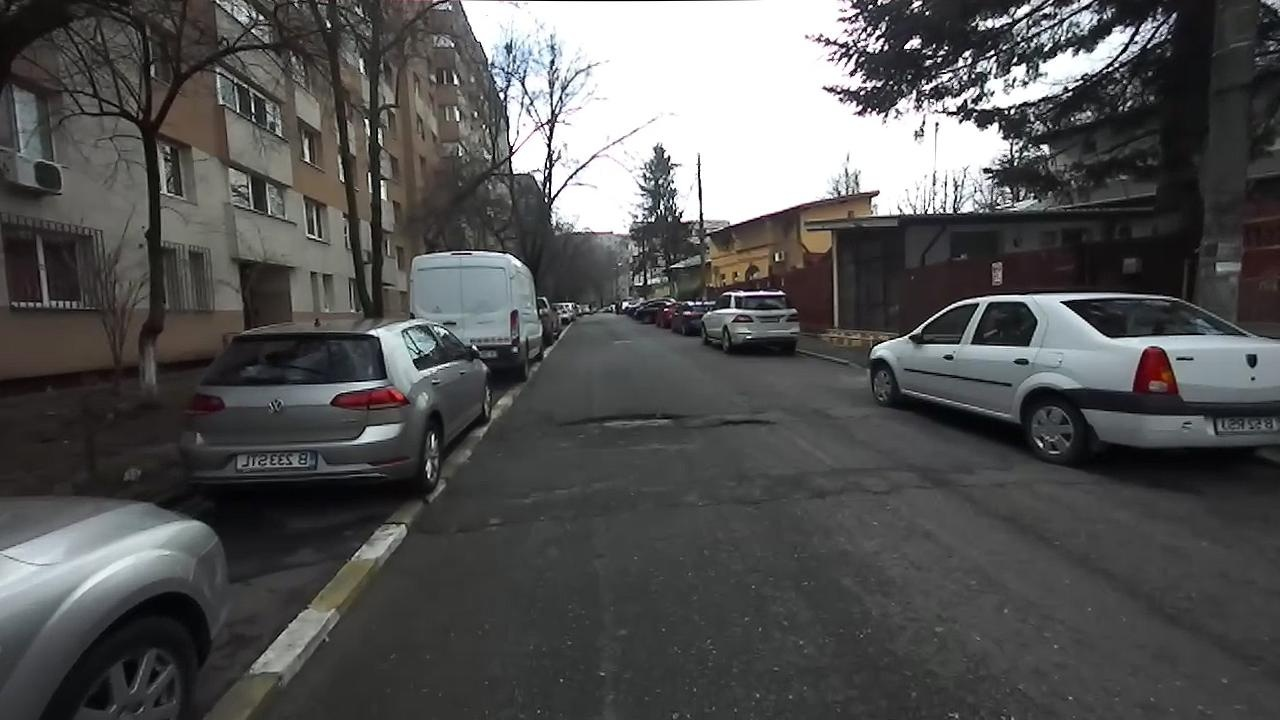pothole: (554, 409, 691, 432), (422, 518, 511, 540), (706, 414, 779, 429)
